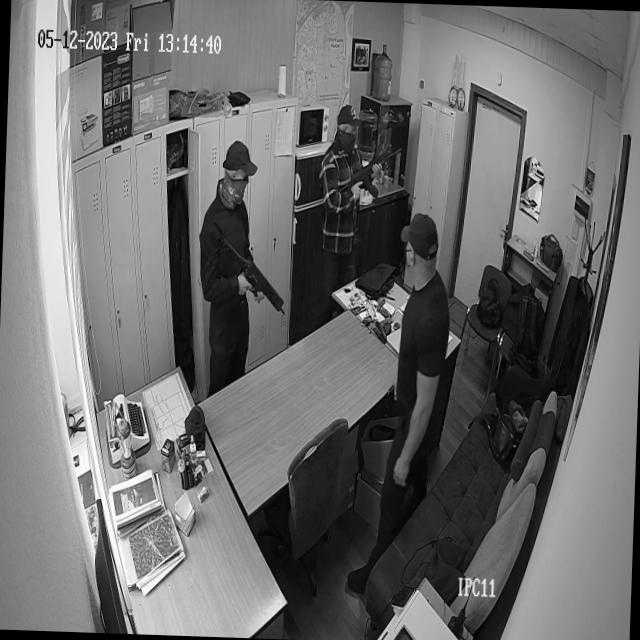gun: (218, 235, 288, 318), (342, 142, 404, 199), (382, 382, 398, 422)
person with a gun: (389, 215, 448, 526), (198, 140, 256, 376), (314, 108, 364, 310)
